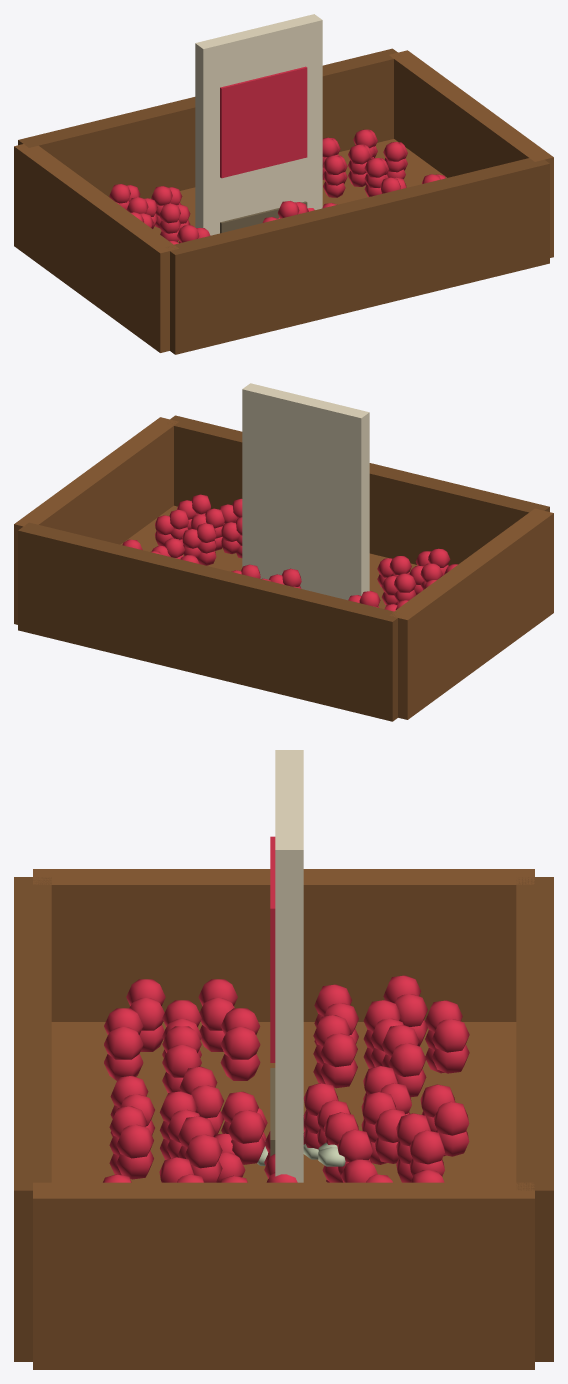
The model's file is Fruit_Raspberry.fbx.
The picture shows the model from 3 angles, top to bottom: view 1: azimuth 30°, elevation 25°; view 2: azimuth 150°, elevation 25°; view 3: azimuth 270°, elevation 25°; orthographic projection. The views are drawn at different scales.
Visible parts, largest first — view 1: Fruit_Raspberry__Stack, Fruit_Raspberry__Seed; view 2: Fruit_Raspberry__Stack, Fruit_Raspberry__Seed; view 3: Fruit_Raspberry__Stack, Fruit_Raspberry__Seed, Fruit_Raspberry, Fruit_Raspberry__Rotten.
Part boxes in pixels (bbox=[...]): Fruit_Raspberry__Stack: bbox=[14, 48, 553, 354]; Fruit_Raspberry__Seed: bbox=[195, 14, 322, 235]; Fruit_Raspberry__Stack: bbox=[14, 415, 553, 721]; Fruit_Raspberry__Seed: bbox=[242, 383, 369, 600]; Fruit_Raspberry__Stack: bbox=[14, 869, 553, 1369]; Fruit_Raspberry__Seed: bbox=[270, 750, 303, 1182]; Fruit_Raspberry: bbox=[214, 1108, 329, 1182]; Fruit_Raspberry__Rotten: bbox=[257, 1142, 345, 1166].
Size of the model in its own units: 0.1651 by 0.09 by 0.1143.
